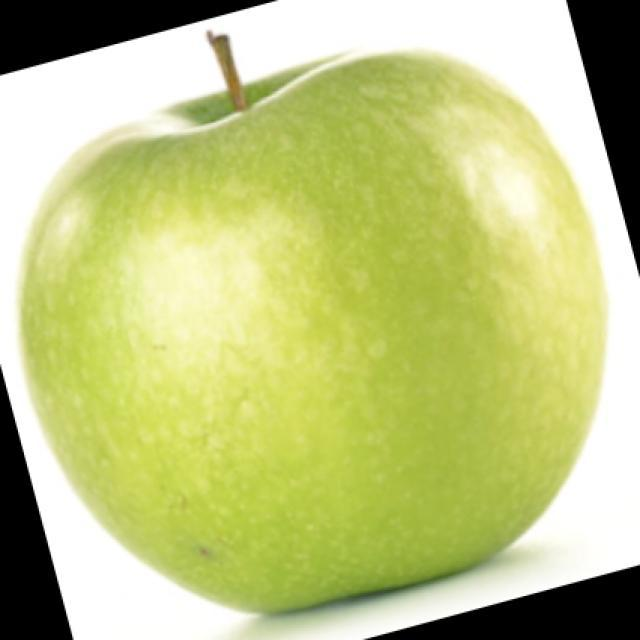Fresh Apple: (42, 62, 580, 590)
